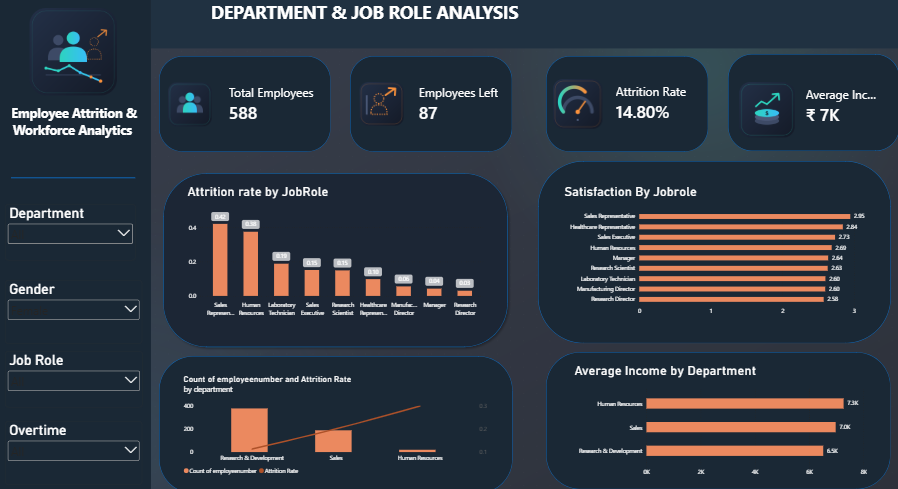

This screenshot's page, from the dashboard's own definition file:
{"tool":"powerbi","page":{"name":"Page 2","canvas":[1920,1080],"ordinal":1},"visuals":[{"type":"shape","box":[0,0,327.6,1080.9],"z":0},{"type":"textbox","box":[0,221.7,327.6,98.3],"z":1000},{"type":"image","box":[56,18,214,186],"z":2000},{"type":"slicer","fields":{"Values":["cleaned.department"]},"box":[17.5,435,277.5,120],"z":3000},{"type":"shape","box":[30.2,312.4,264.6,131],"z":4000},{"type":"shape","box":[327.6,0,1592.4,103.3],"z":5000},{"type":"shape","box":[345.2,118.4,365.4,204.1],"z":6000},{"type":"shape","box":[750.9,118.4,345.2,204.1],"z":7000},{"type":"shape","box":[1169.1,118.4,345.2,204.1],"z":8000},{"type":"shape","box":[1554.6,115.9,365.4,206.6],"z":9000},{"type":"image","box":[362.8,161.3,93.2,120.9],"z":10000},{"type":"cardVisual","fields":{"Data":["cleaned.Total Employees"]},"box":[476.2,161.3,214.2,120.9],"z":11000},{"type":"cardVisual","fields":{"Data":["cleaned.Employees Left"]},"box":[881.9,161.3,214.2,120.9],"z":12000},{"type":"image","box":[755.9,173.9,126,93.2],"z":13000},{"type":"cardVisual","fields":{"Data":["cleaned.Attrition Rate"]},"box":[1300.2,158.7,214.2,120.9],"z":14000},{"type":"image","box":[1151.5,168.8,168.8,105.8],"z":15000},{"type":"cardVisual","fields":{"Data":["cleaned.Average Income"]},"box":[1705,162.5,197.5,130],"z":16000},{"type":"image","box":[1569.8,173.9,136.1,118.4],"z":17000},{"type":"textbox","box":[362.5,0,830,102.5],"z":18000},{"type":"shape","box":[345.6,360,750.9,388],"z":19000},{"type":"shape","box":[345,757.5,752.5,292.5],"z":20000},{"type":"shape","box":[1169.1,748.3,733.2,292.3],"z":21000},{"type":"shape","box":[1151.5,342.7,750.9,388],"z":22000},{"type":"lineStackedColumnComboChart","title":"Attrition rate by JobRole","fields":{"Category":["cleaned.jobrole"],"Y":["cleaned.Attrition Rate"]},"box":[390,377.5,665,315],"z":23000},{"type":"clusteredBarChart","title":"Satisfaction By Jobrole","fields":{"Category":["cleaned.jobrole"],"Y":["Avg(cleaned.jobsatisfaction)"]},"box":[1192.5,377.5,675,315],"z":24000},{"type":"barChart","title":"Average Income by Department","fields":{"Category":["cleaned.department"],"Y":["cleaned.Average Income"]},"box":[1212,758,654,276],"z":25000},{"type":"slicer","fields":{"Values":["cleaned.gender"]},"box":[17.5,595,292.3,136.1],"z":26000},{"type":"slicer","fields":{"Values":["cleaned.jobrole"]},"box":[17.5,747.5,292.5,120],"z":27000},{"type":"slicer","fields":{"Values":["cleaned.overtime"]},"box":[17.5,895,292.3,136.1],"z":28000},{"type":"lineStackedColumnComboChart","fields":{"Category":["cleaned.department"],"Y":["CountNonNull(cleaned.employeenumber)"],"Y2":["cleaned.Attrition Rate"]},"box":[380,780,677.5,250],"z":29000}]}

Visuals, with their boxes on the page's 1920x1080 design canvas (x1, y1, x2, y2). These are canvas units, not pixel positions in the 898x489 screenshot, which may show the page scaled, cropped or inside an application window:
shape: 0 0 328 1081
textbox: 0 222 328 320
image: 56 18 270 204
slicer - cleaned.department: 18 435 295 555
shape: 30 312 295 443
shape: 328 0 1920 103
shape: 345 118 711 322
shape: 751 118 1096 322
shape: 1169 118 1514 322
shape: 1555 116 1920 322
image: 363 161 456 282
cardVisual - cleaned.Total Employees: 476 161 690 282
cardVisual - cleaned.Employees Left: 882 161 1096 282
image: 756 174 882 267
cardVisual - cleaned.Attrition Rate: 1300 159 1514 280
image: 1152 169 1320 275
cardVisual - cleaned.Average Income: 1705 162 1902 292
image: 1570 174 1706 292
textbox: 362 0 1192 102
shape: 346 360 1096 748
shape: 345 758 1098 1050
shape: 1169 748 1902 1041
shape: 1152 343 1902 731
"Attrition rate by JobRole" lineStackedColumnComboChart: 390 378 1055 692
"Satisfaction By Jobrole" clusteredBarChart: 1192 378 1868 692
"Average Income by Department" barChart: 1212 758 1866 1034
slicer - cleaned.gender: 18 595 310 731
slicer - cleaned.jobrole: 18 748 310 868
slicer - cleaned.overtime: 18 895 310 1031
lineStackedColumnComboChart - cleaned.department x CountNonNull(cleaned.employeenumber): 380 780 1058 1030
